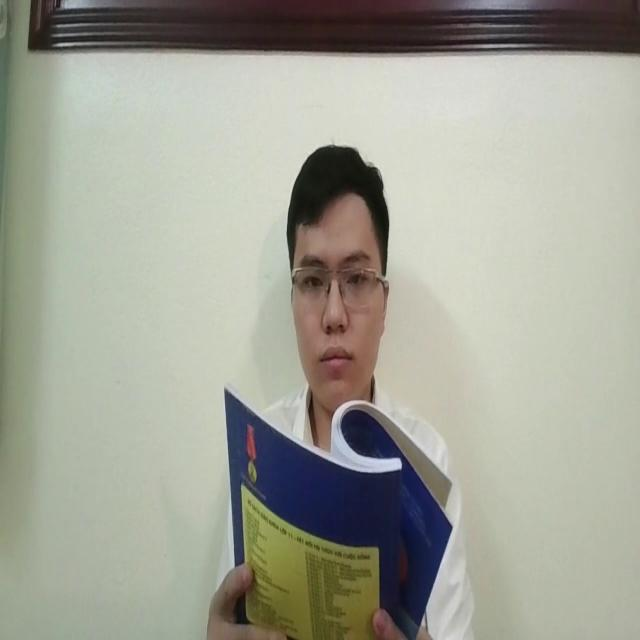book: (217, 373, 454, 640)
student: (210, 157, 473, 640)
